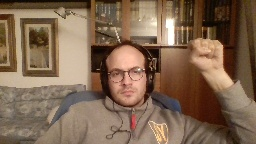Pugno: (184, 36, 224, 71)
